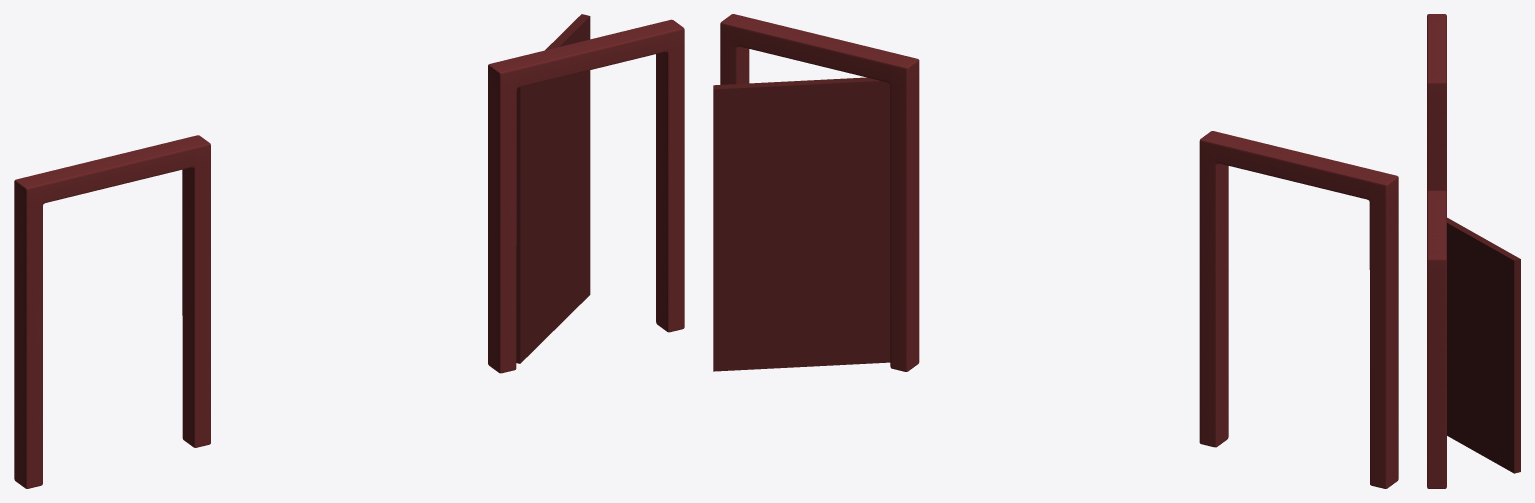
The model's file is door guards.fbx.
3 renders of one model, left to right at view 1: azimuth 30°, elevation 25°; view 2: azimuth 150°, elevation 25°; view 3: azimuth 270°, elevation 25°, orthographic. The views are drawn at different scales.
Parts seen in each view (by area): view 1: pCube212, pCube211, polySurface713; view 2: polySurface713, pCube211, pCube212; view 3: polySurface713, pCube212, pCube211.
Boxes of the visible parts, bbox=[...] form: pCube212: bbox=[488, 19, 684, 373]; pCube211: bbox=[14, 135, 210, 488]; polySurface713: bbox=[516, 14, 590, 363]; polySurface713: bbox=[713, 77, 890, 371]; pCube211: bbox=[1199, 131, 1398, 488]; pCube212: bbox=[720, 14, 919, 371]; polySurface713: bbox=[1447, 217, 1520, 473]; pCube212: bbox=[1427, 190, 1446, 488]; pCube211: bbox=[1427, 14, 1446, 191].
Size of the model in its own units: 406 by 178 by 65.47.
